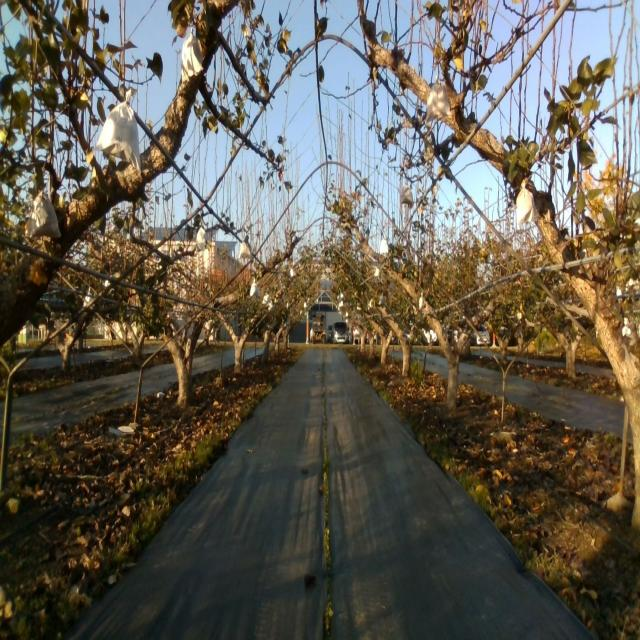pearbags: (97, 80, 142, 172), (24, 188, 61, 236), (516, 178, 539, 228), (182, 28, 204, 80), (426, 78, 451, 122), (237, 239, 251, 260), (401, 185, 413, 205)
